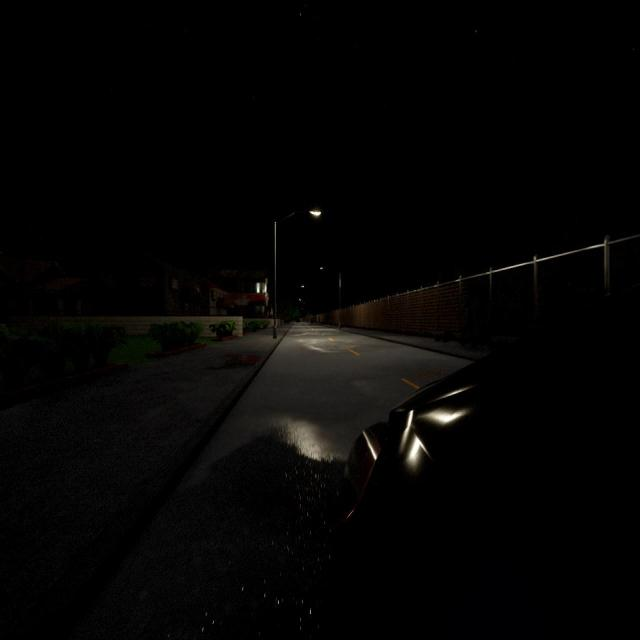Vehicle: (333, 288, 639, 637)
